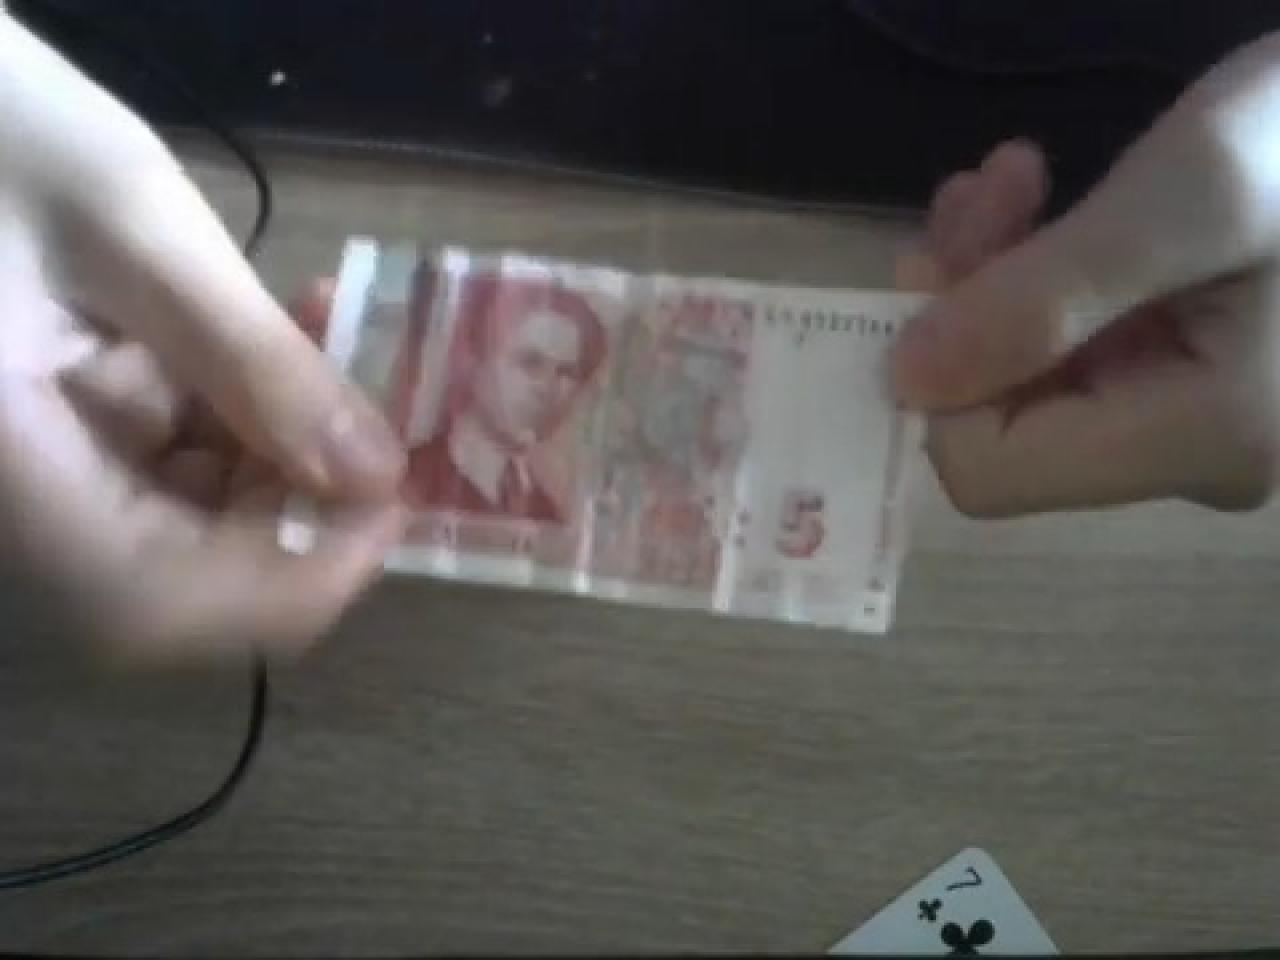5leva: (464, 264, 922, 637)
